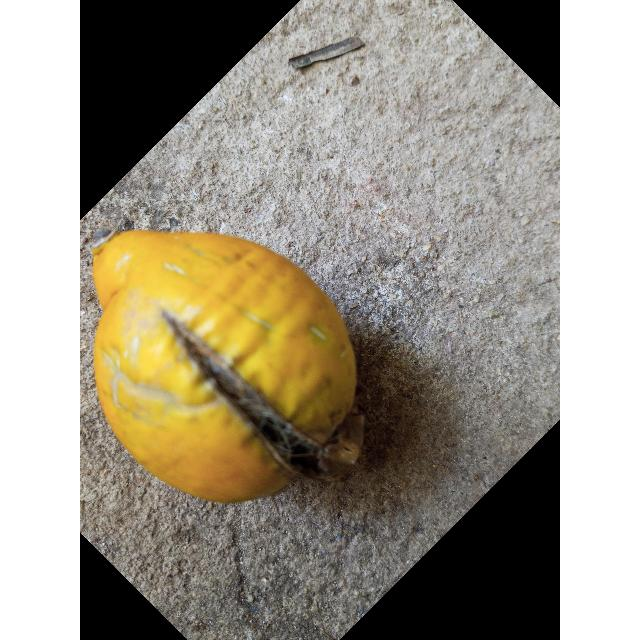damaged: (92, 230, 365, 507)
